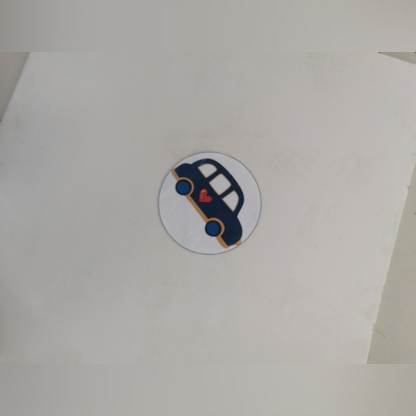car: (153, 139, 258, 258)
